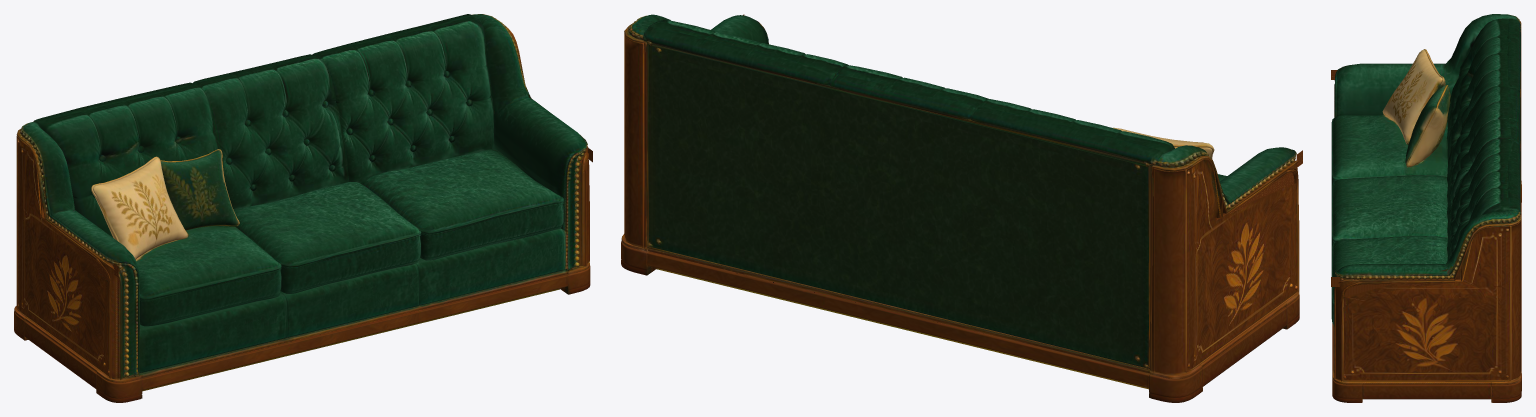
File: first-class-sofa.glb
3 views of the same model, side by side, from view 1: azimuth 30°, elevation 25°; view 2: azimuth 150°, elevation 25°; view 3: azimuth 270°, elevation 25° (orthographic). The views are drawn at different scales.
Parts seen in each view (by area): view 1: SM_BT_FirstClassSofa; view 2: SM_BT_FirstClassSofa; view 3: SM_BT_FirstClassSofa.
Boxes of the visible parts, x1,y1,x2,y2 form: SM_BT_FirstClassSofa: (14, 14, 592, 402); SM_BT_FirstClassSofa: (621, 14, 1302, 402); SM_BT_FirstClassSofa: (1331, 14, 1521, 402).
Size of the model in its own units: 1.85 by 0.7583 by 0.7069.
1 material, 1 textured.
